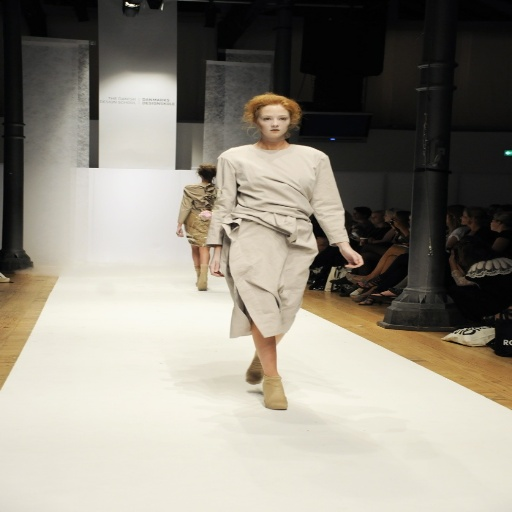hand: (332, 237, 382, 276), (208, 255, 223, 278), (391, 218, 404, 230), (172, 228, 185, 237)
